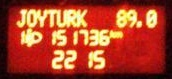-: (135, 19, 143, 29)
0: (144, 8, 157, 28)
1: (87, 49, 92, 69), (72, 28, 77, 46), (19, 29, 24, 47), (50, 28, 55, 45)
2: (64, 48, 76, 69), (52, 48, 63, 69)
3: (88, 27, 98, 46)
5: (92, 48, 105, 69), (55, 28, 66, 46)
6: (98, 28, 109, 45)
7: (78, 27, 88, 45)
8: (115, 8, 126, 27)
9: (126, 7, 137, 28)
X: (76, 7, 89, 27), (14, 7, 25, 27), (36, 7, 46, 27), (26, 7, 36, 26), (46, 8, 56, 27), (56, 8, 66, 27), (66, 8, 76, 27), (114, 29, 122, 38), (109, 28, 114, 38)
